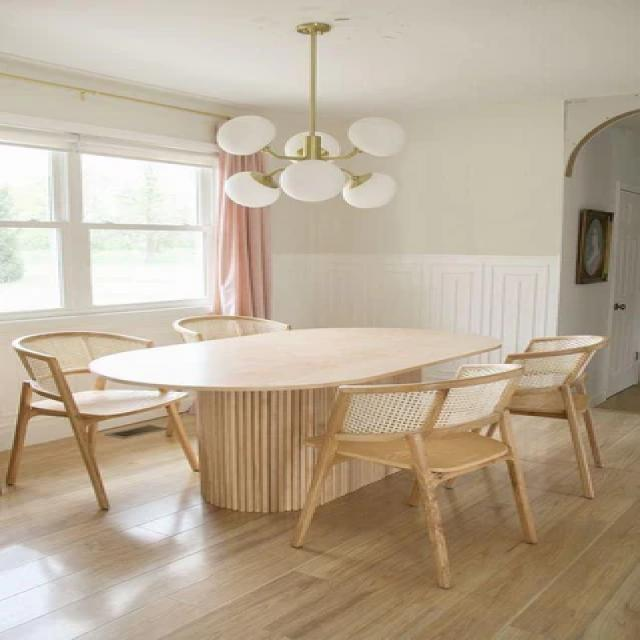table: (86, 297, 512, 412)
